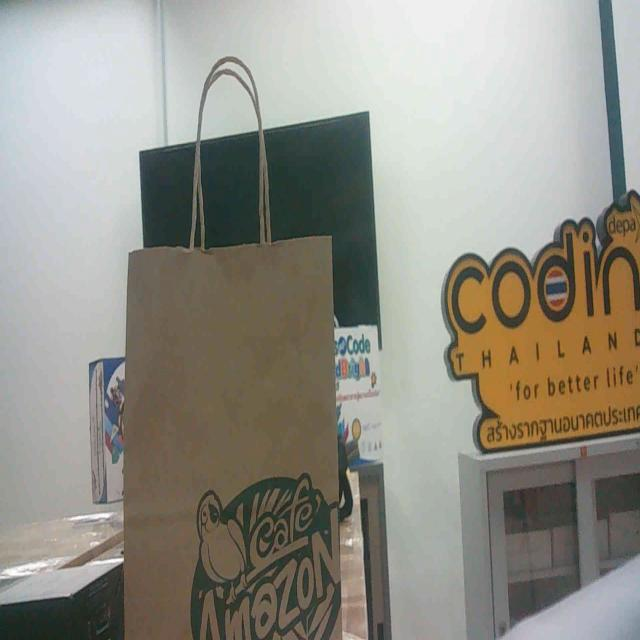bag: (118, 214, 359, 640)
